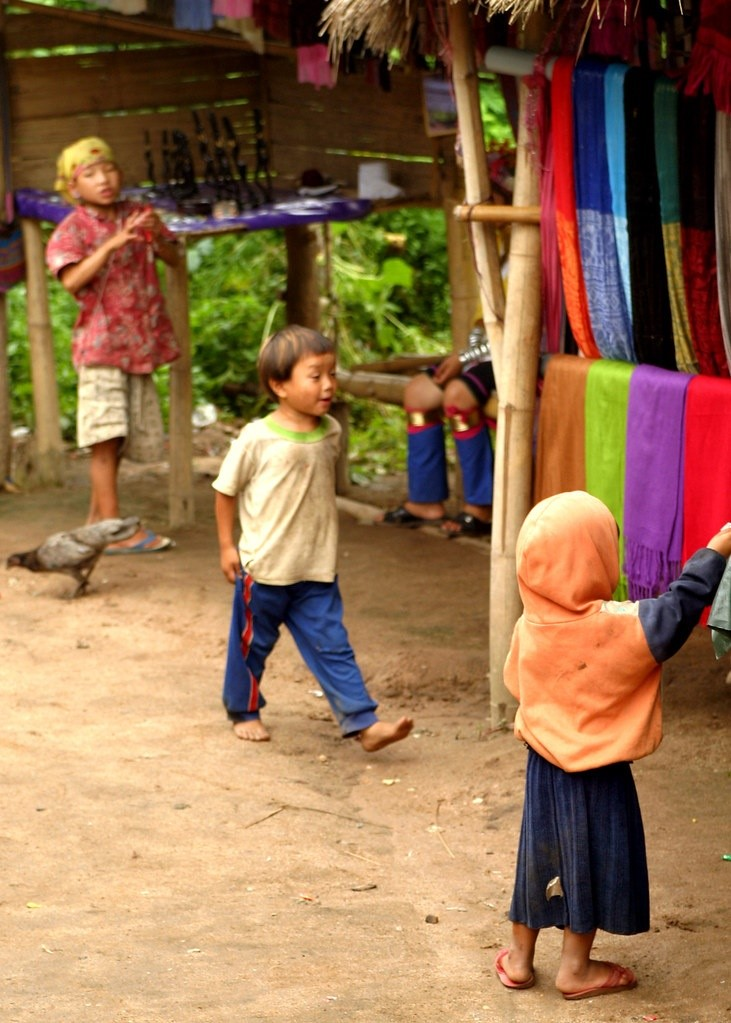face_no_mask: (261, 327, 339, 423)
